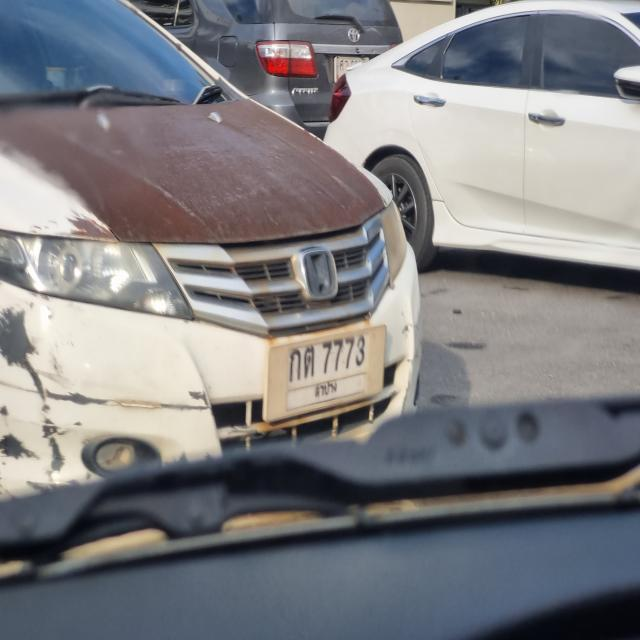license_plate: (264, 316, 388, 423)
